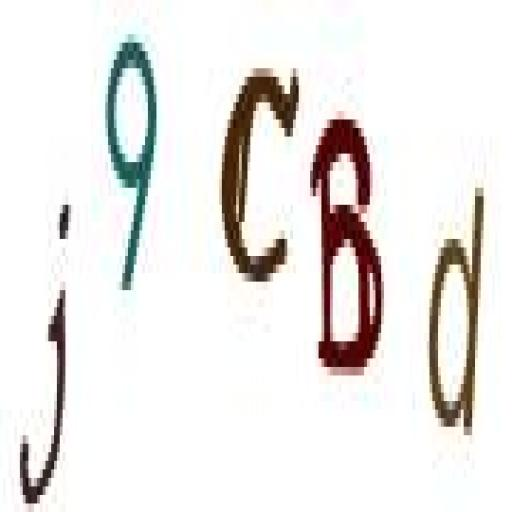9: (101, 29, 163, 306)
B: (308, 107, 386, 383)
c: (218, 57, 304, 302)
d: (423, 182, 490, 456)
j: (17, 196, 74, 512)
